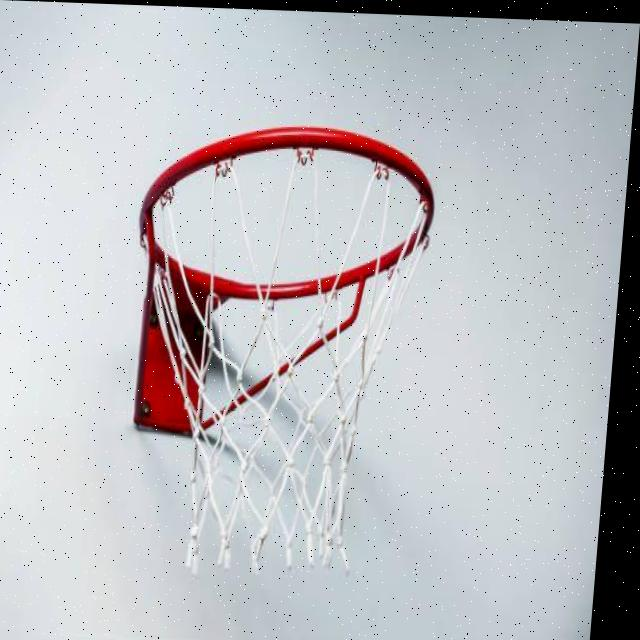hoop: (96, 167, 458, 586)
